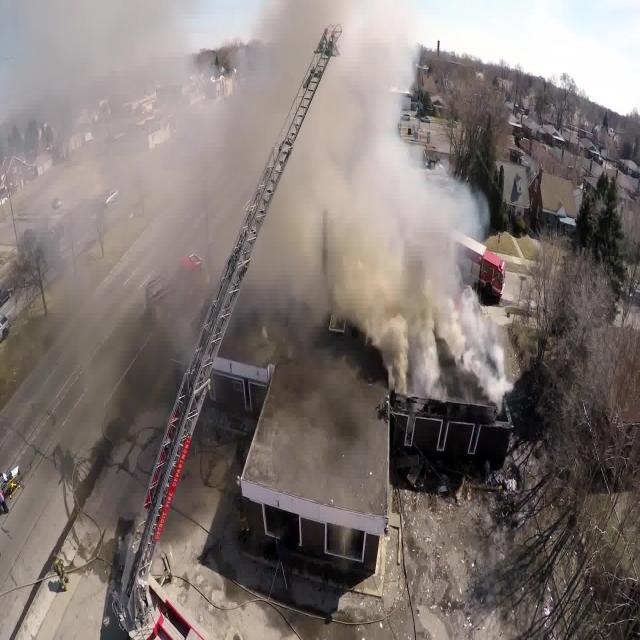Smoke: (59, 19, 513, 433)
